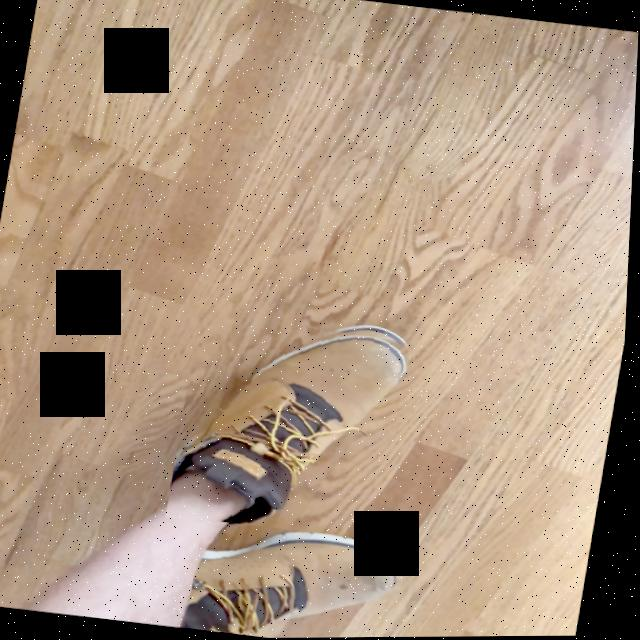shoe: (173, 334, 412, 526), (194, 533, 406, 636)
